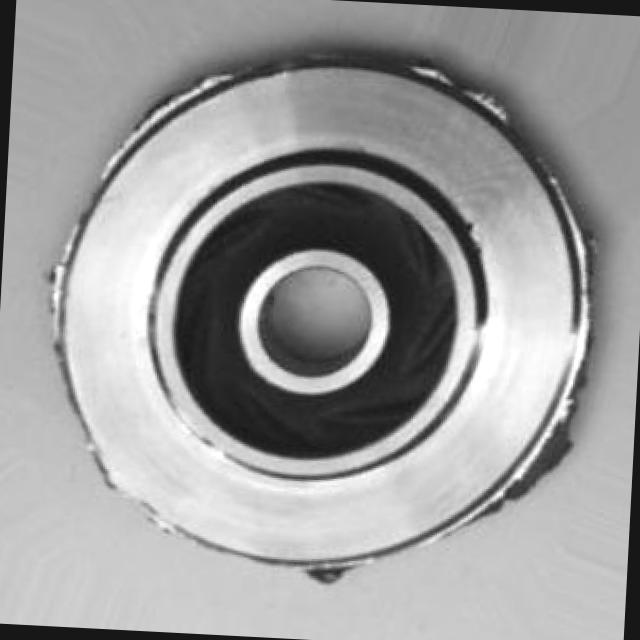Defect: (298, 546, 349, 604), (533, 422, 574, 481), (432, 46, 472, 98)
